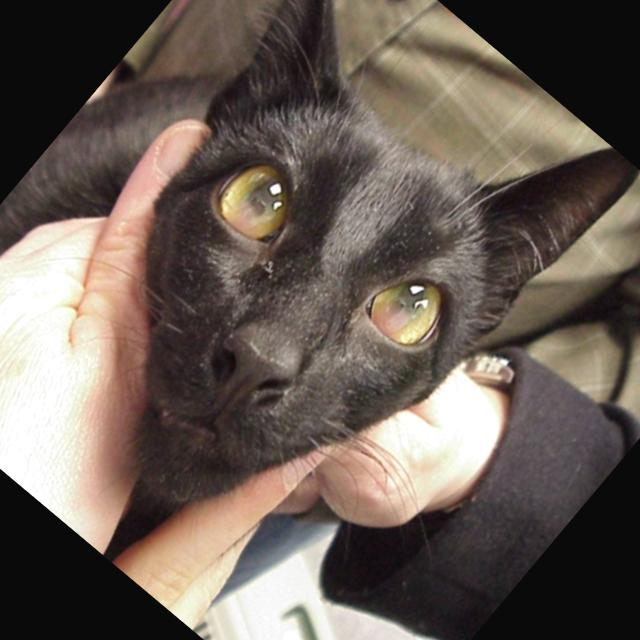cat-eye: (314, 238, 468, 396), (183, 137, 326, 281)
